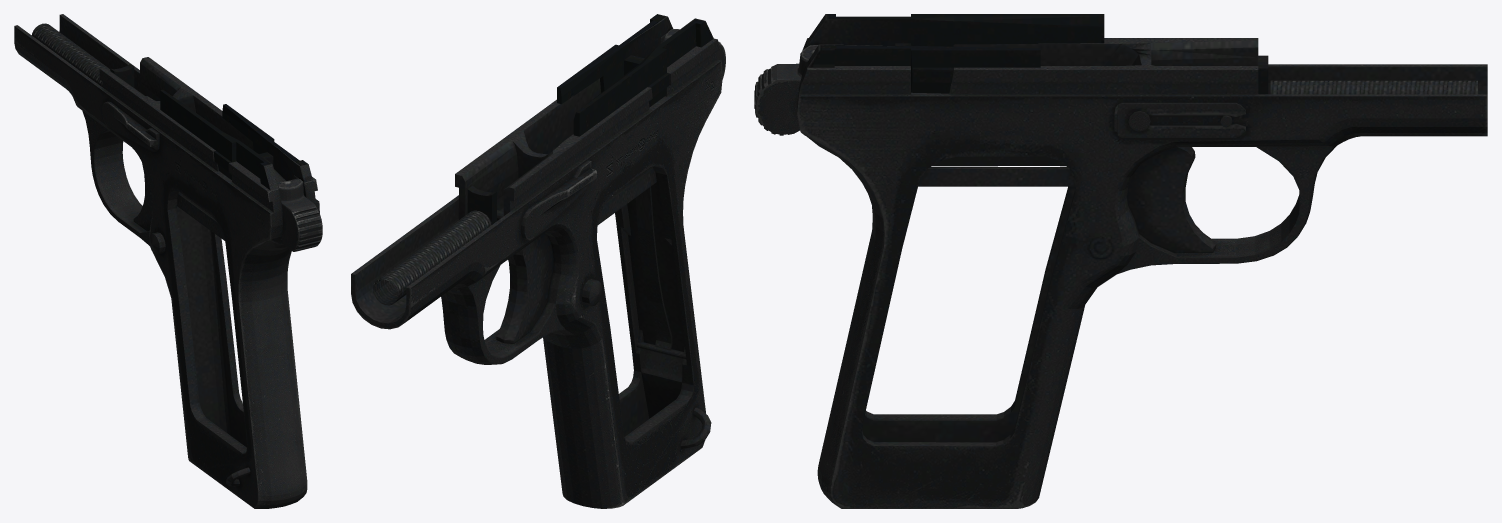
3 renders of one model, left to right at view 1: azimuth 30°, elevation 25°; view 2: azimuth 150°, elevation 25°; view 3: azimuth 270°, elevation 25°, orthographic. The views are drawn at different scales.
Parts seen in each view (by area): view 1: TW_571a12c42459771f627b58a0_PZ_Import; view 2: TW_571a12c42459771f627b58a0_PZ_Import; view 3: TW_571a12c42459771f627b58a0_PZ_Import.
Part boxes in pixels (x1,y1,x2,y2): TW_571a12c42459771f627b58a0_PZ_Import: (14,14,322,508); TW_571a12c42459771f627b58a0_PZ_Import: (351,14,725,508); TW_571a12c42459771f627b58a0_PZ_Import: (754,14,1487,508).
Size of the model in its own units: 0.0136 by 0.0917 by 0.0642.
1 material, 1 textured.
